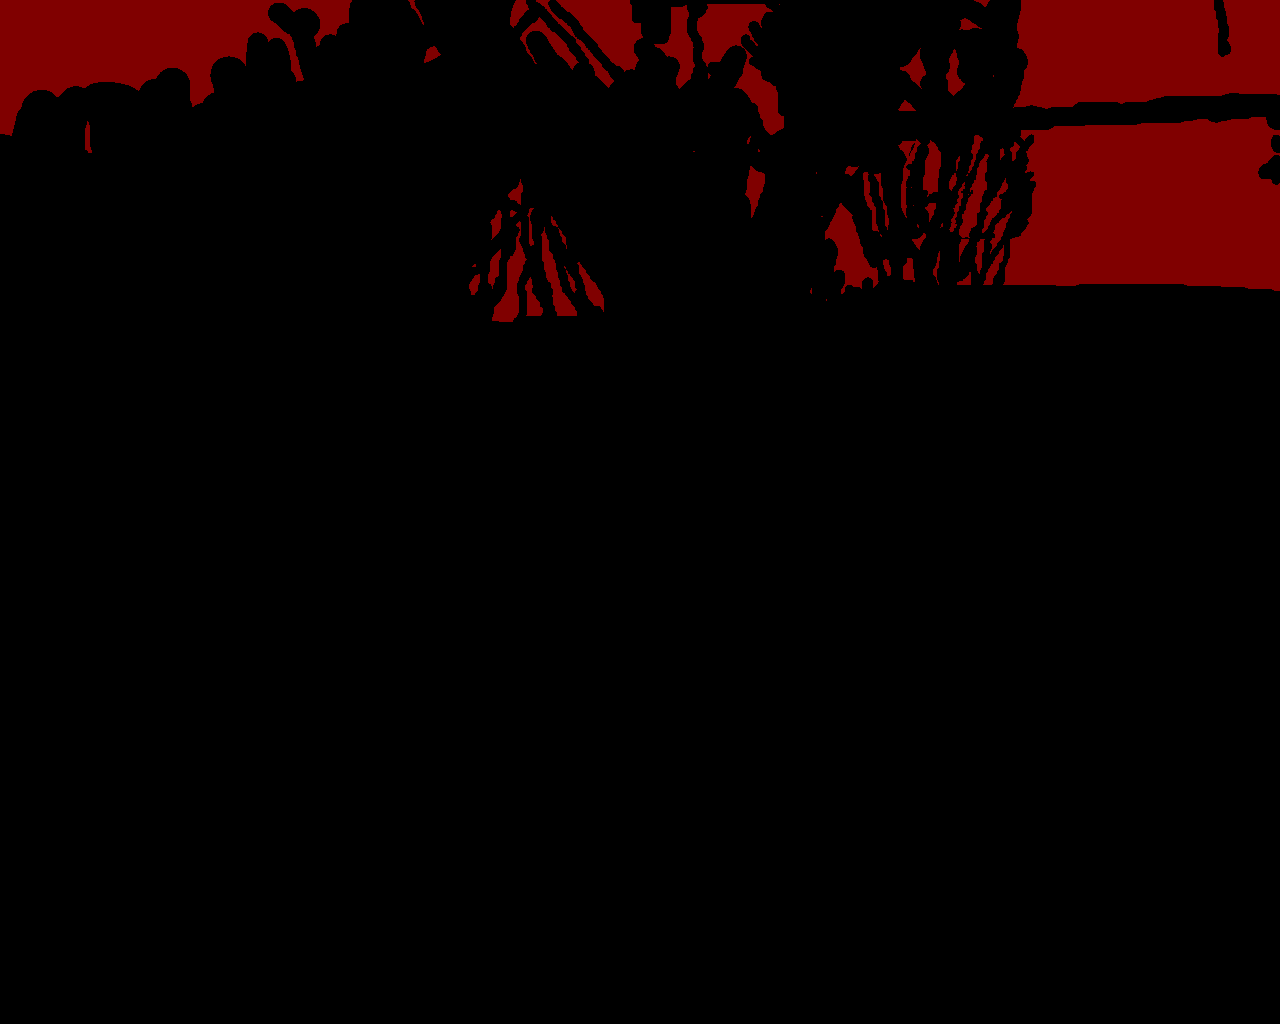Sky: (1, 1, 1279, 322)
